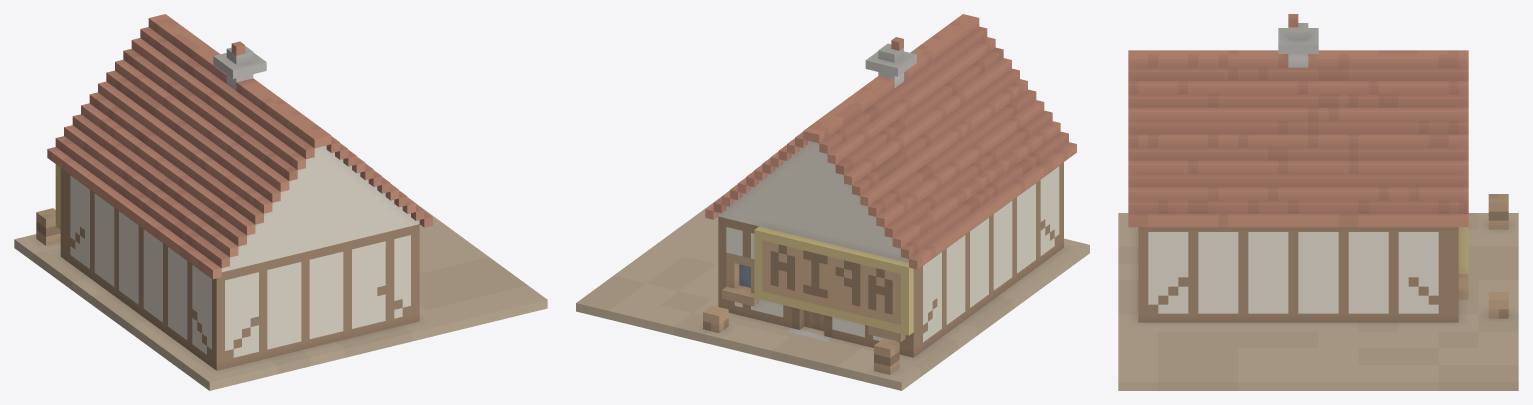
Rendered from apiary.glb.
3 renders of one model, left to right at view 1: azimuth 30°, elevation 25°; view 2: azimuth 150°, elevation 25°; view 3: azimuth 270°, elevation 25°, orthographic. The views are drawn at different scales.
Parts seen in each view (by area): view 1: apiary; view 2: apiary; view 3: apiary.
Part boxes in pixels (left/top/right/bottom): apiary: left=14, top=14, right=547, bottom=390; apiary: left=576, top=14, right=1089, bottom=390; apiary: left=1118, top=14, right=1518, bottom=390.
Size of the model in its own units: 5 by 3.62 by 5.
